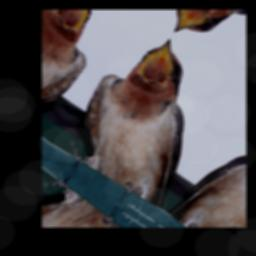Swallow: (52, 18, 240, 221)
